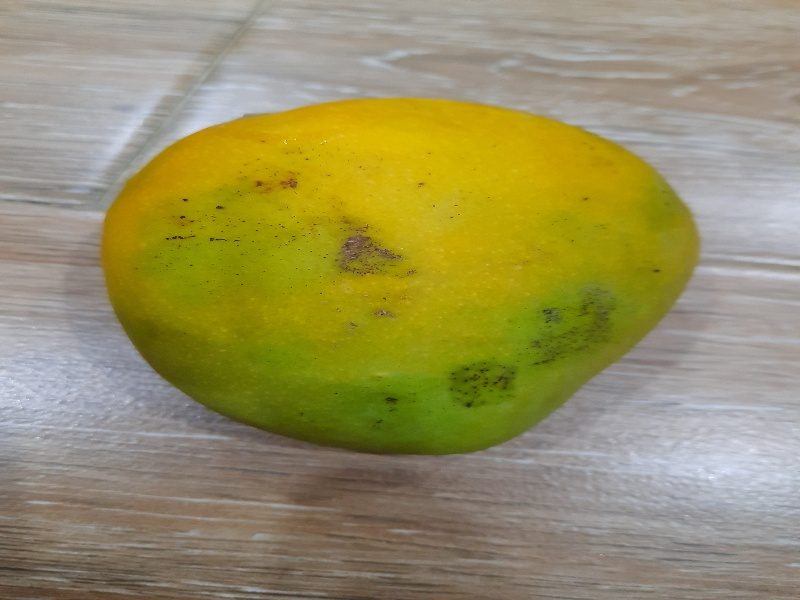fruit: (103, 95, 709, 461)
